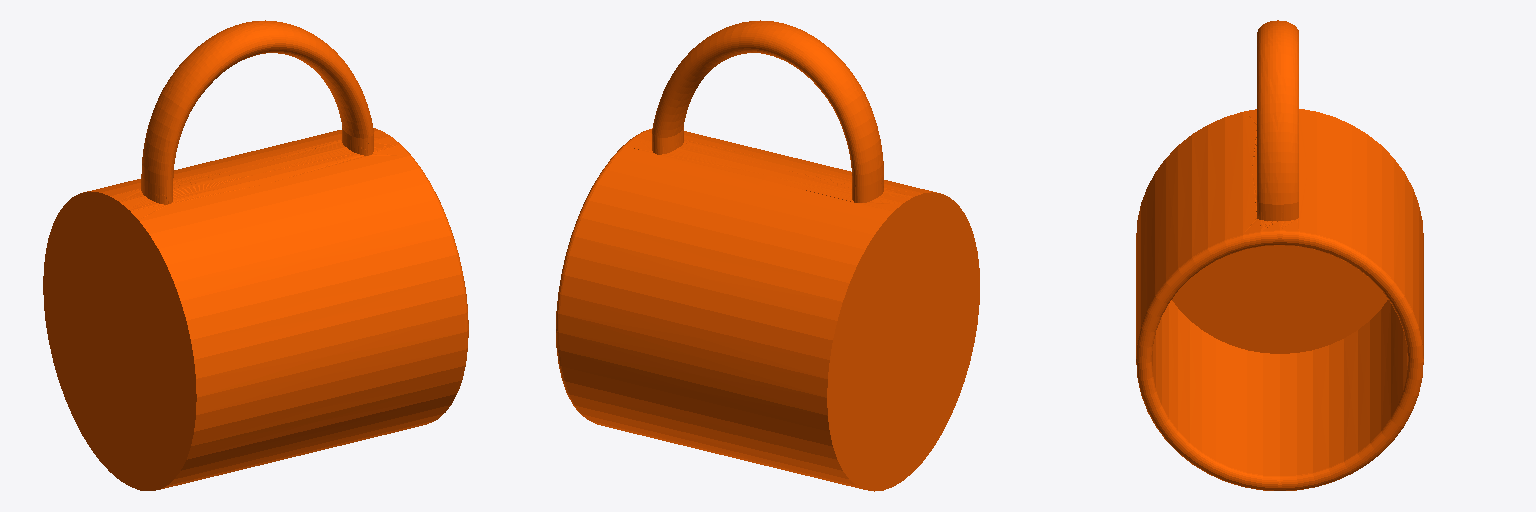
The robot description file, URDF, robot "2024-09-16_Mug_18":
<?xml version="1.0" ?>
<robot name="2024-09-16_Mug_18">
   <material name="obj_color">
      <color rgba="1.0 0.423529411765 0.0392156862745 1.0"/>
   </material>
   <link name="top">
      <inertial>
         <origin rpy="-0.0005101857316975689 -0.0004850984851596983 -0.0003906535690714267" xyz="0.04500651298449641 0.04442161331266128 0.0498621538211451"/>
         <mass value="-0.2569009316827403"/>
         <inertia ixx="-0.0005101833210333097" ixy="-1.64939594320448e-09" ixz="-5.366782520787552e-07" iyy="-0.0004850932591253711" iyz="-7.026039410934909e-07" izz="-0.0003906612057700128"/>
      </inertial>
      <visual>
         <origin rpy="0 0 0" xyz="0 0 0"/>
         <geometry>
            <mesh filename="top_watertight_tiny.stl" scale="1 1 1"/>
         </geometry>
         <material name="obj_color"/>
      </visual>
      <collision>
         <origin rpy="0 0 0" xyz="0 0 0"/>
         <geometry>
            <mesh filename="top_watertight_tiny.obj" scale="1 1 1"/>
         </geometry>
      </collision>
   </link>
   <link name="bottom">
      <inertial>
         <origin rpy="1.633333333199431e-08 1.633333333199431e-08 1.633333333362855e-08" xyz="0.3464080000000008 0.3464080000000008 0.3464080000000008"/>
         <mass value="0.0009800000000000017"/>
         <inertia ixx="1.633333333253906e-08" ixy="5.447480642029219e-19" ixz="5.447480642029219e-19" iyy="1.633333333253906e-08" iyz="5.447480642029219e-19" izz="1.633333333253906e-08"/>
      </inertial>
      <visual>
         <origin rpy="0 0 0" xyz="0 0 0"/>
         <geometry>
            <mesh filename="bottom_watertight_tiny.stl" scale="1 1 1"/>
         </geometry>
         <material name="obj_color"/>
      </visual>
   </link>
   <joint name="rotation" type="revolute">
      <origin xyz="0 0 0"/>
      <axis xyz="0 0 -1"/>
      <parent link="bottom"/>
      <child link="top"/>
      <dynamics damping="1.0" friction="1.0"/>
      <limit effort="0.1" velocity="0.1" lower="0" upper="0.001"/>
   </joint>
</robot>

--- Facts derived from the render (not from the file) ---
The picture shows the robot from 3 angles, left to right: view 1: azimuth 30°, elevation 25°; view 2: azimuth 150°, elevation 25°; view 3: azimuth 270°, elevation 25°; orthographic projection.
Robot: 2024-09-16_Mug_18 — 2 links, 1 joints (1 revolute); root link bottom; default pose: all joints at 0.
Visible links, largest first — view 1: top; view 2: top; view 3: top.
Boxes of the visible links, x1,y1,x2,y2 form: top: (43,20,468,490); top: (556,20,979,491); top: (1136,20,1423,490).
Size in the robot's own frame: 0.092 by 0.0889 by 0.1357 metres.
1 mesh visuals loaded from 2 distinct referenced files (1 binary STL); not drawn: 1 (reference not matched to a file when rendering).
